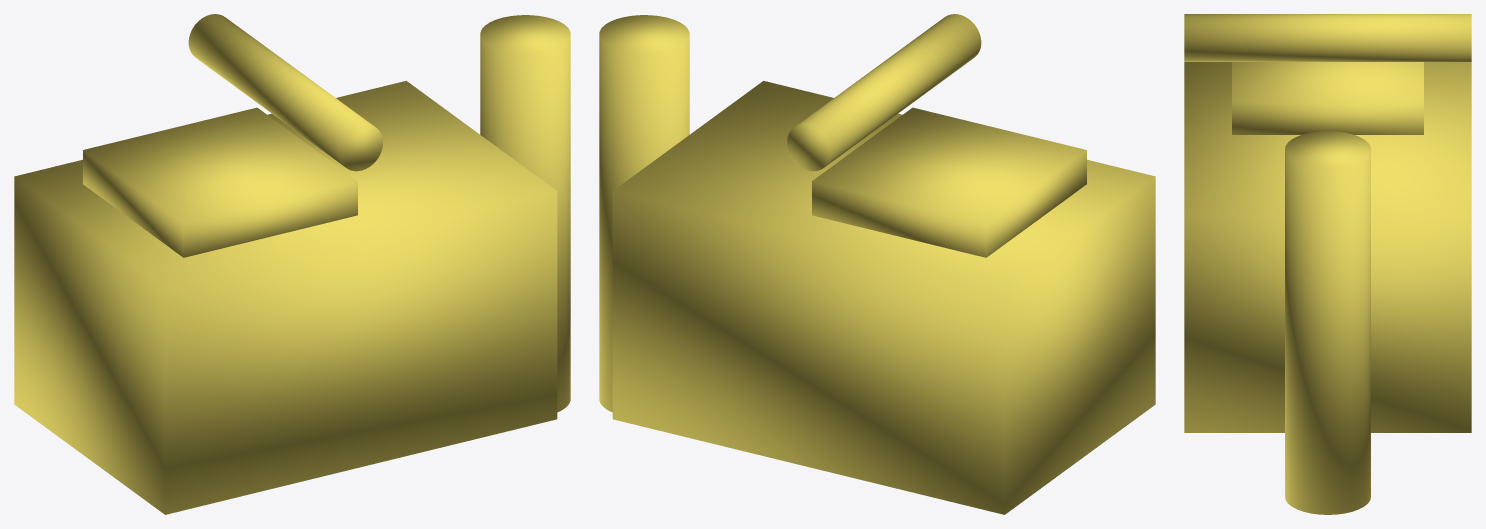
Rendered from SM_Geiger_Counter.fbx.
3 renders of one model, left to right at view 1: azimuth 30°, elevation 25°; view 2: azimuth 150°, elevation 25°; view 3: azimuth 270°, elevation 25°, orthographic. The views are drawn at different scales.
Parts seen in each view (by area): view 1: SM_Geiger_Counter; view 2: SM_Geiger_Counter; view 3: SM_Geiger_Counter.
Part boxes in pixels (bbox=[...]): SM_Geiger_Counter: bbox=[14, 14, 570, 514]; SM_Geiger_Counter: bbox=[599, 14, 1155, 514]; SM_Geiger_Counter: bbox=[1184, 14, 1471, 514].
Size of the model in its own units: 21.8 by 17 by 12.
